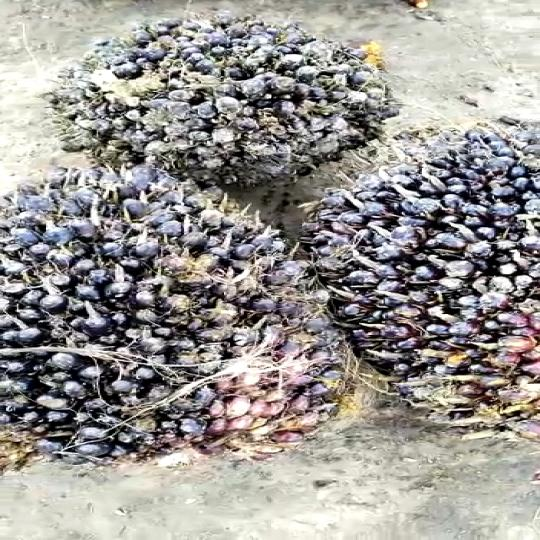mentah: (0, 167, 368, 488), (300, 115, 540, 441), (41, 18, 420, 190)
